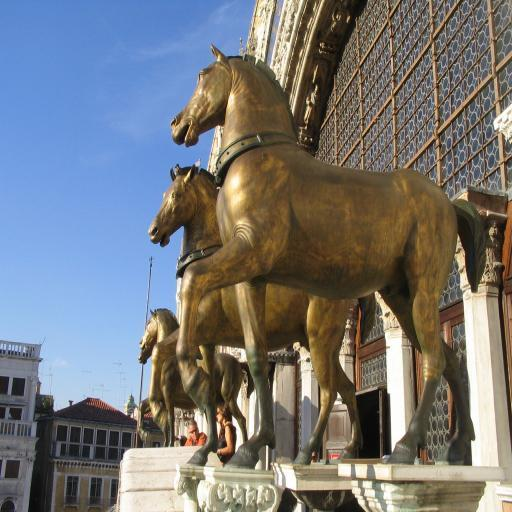horse: (172, 41, 488, 470), (146, 163, 378, 468), (138, 306, 256, 444), (135, 348, 216, 448)
